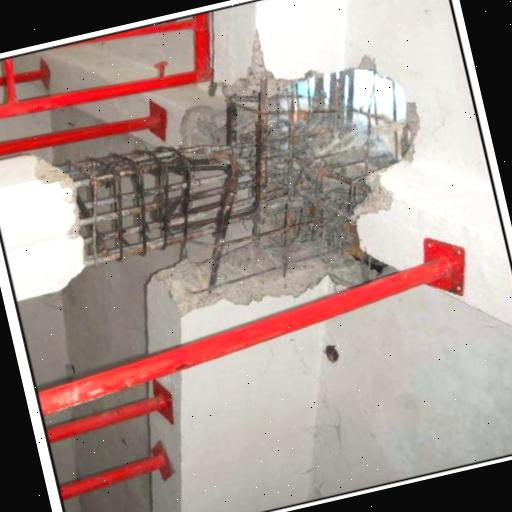spalling: (57, 76, 397, 286)
